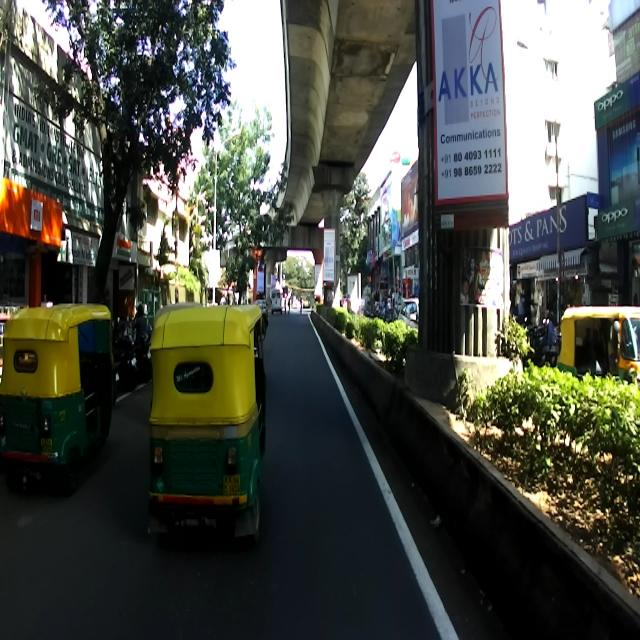autorickshaw: (147, 301, 269, 545), (0, 303, 114, 497), (554, 304, 637, 384)
